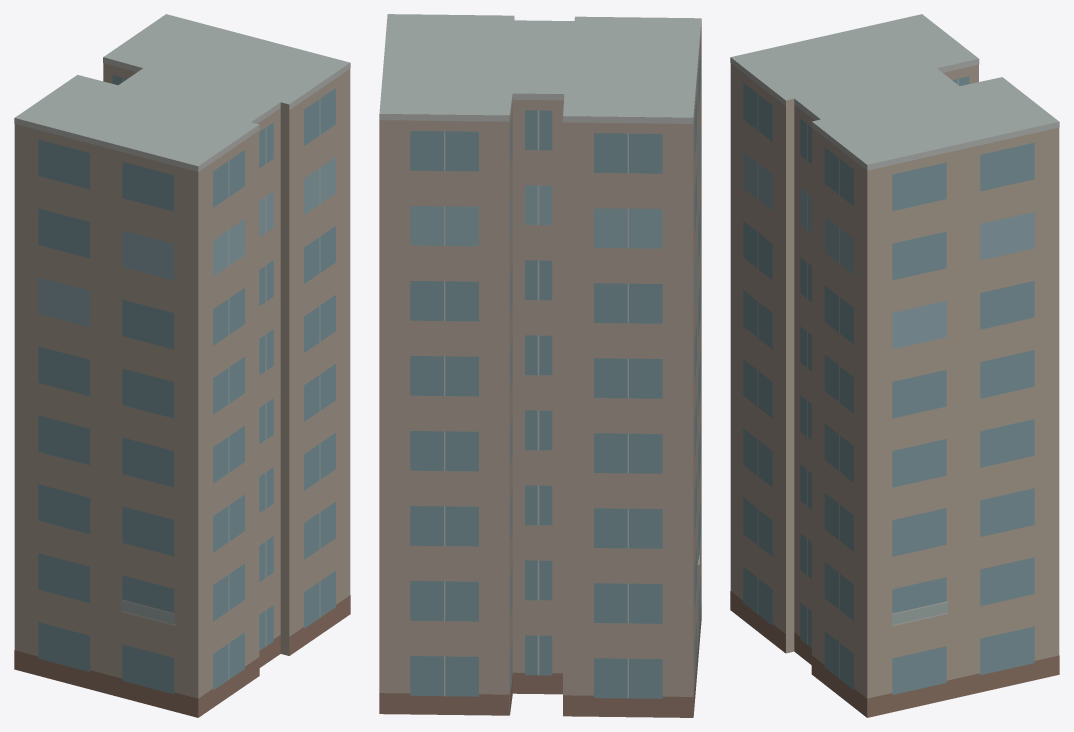
File: survey-upis-33013752.glb
3 views of the same model, side by side, from view 1: azimuth 30°, elevation 25°; view 2: azimuth 150°, elevation 25°; view 3: azimuth 270°, elevation 25° (orthographic). The views are drawn at different scales.
Parts seen in each view (by area): view 1: survey-upis-33013752.tmp; view 2: survey-upis-33013752.tmp; view 3: survey-upis-33013752.tmp.
Part boxes in pixels (left/top/right/bottom): survey-upis-33013752.tmp: left=14, top=14, right=350, bottom=717; survey-upis-33013752.tmp: left=379, top=14, right=701, bottom=717; survey-upis-33013752.tmp: left=730, top=14, right=1059, bottom=717.
Bounding box in the file's own units: 13.65 × 23.3 × 12.57.
